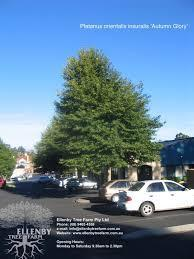tree: (47, 46, 160, 207)
